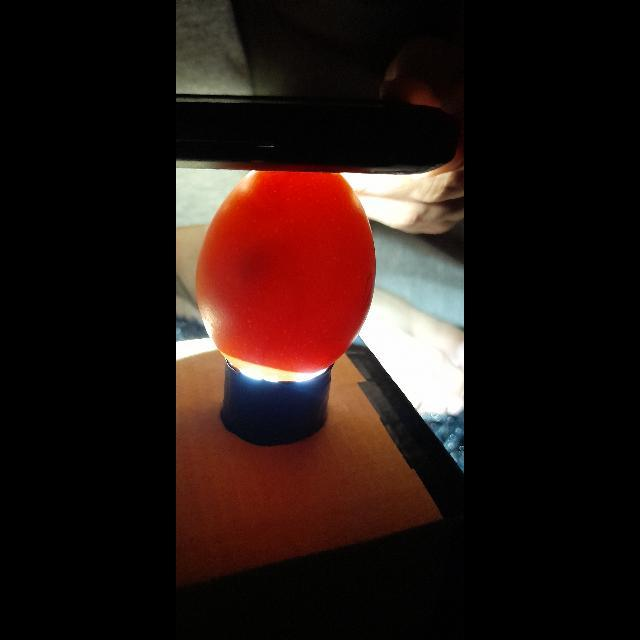Fertile: (199, 166, 371, 367)
